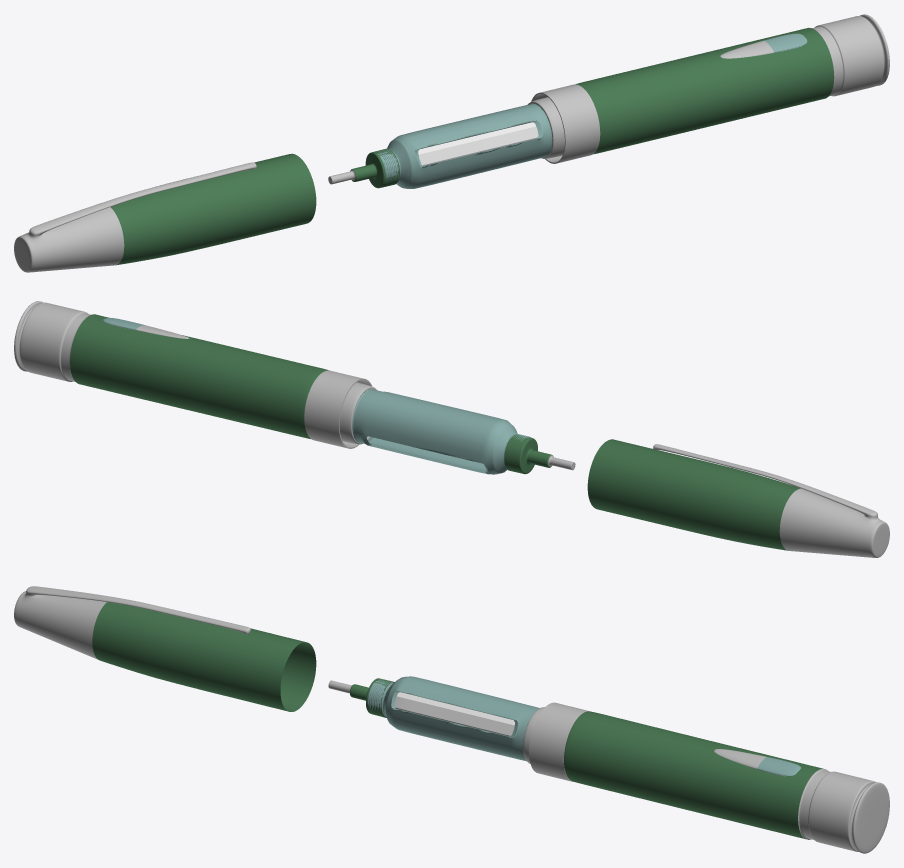
File: insulinpen.glb
The picture shows the model from 3 angles, top to bottom: view 1: azimuth 30°, elevation 25°; view 2: azimuth 150°, elevation 25°; view 3: azimuth 330°, elevation 25°; orthographic projection.
Parts seen in each view (by area): view 1: uploads_files_3323266_Insulin+Pen; view 2: uploads_files_3323266_Insulin+Pen; view 3: uploads_files_3323266_Insulin+Pen.
Part boxes in pixels (x1,y1,x2,y2): uploads_files_3323266_Insulin+Pen: (14, 14, 889, 272); uploads_files_3323266_Insulin+Pen: (14, 301, 889, 557); uploads_files_3323266_Insulin+Pen: (14, 586, 889, 853).
Size of the model in its own units: 40.5 by 3.35 by 3.02.
